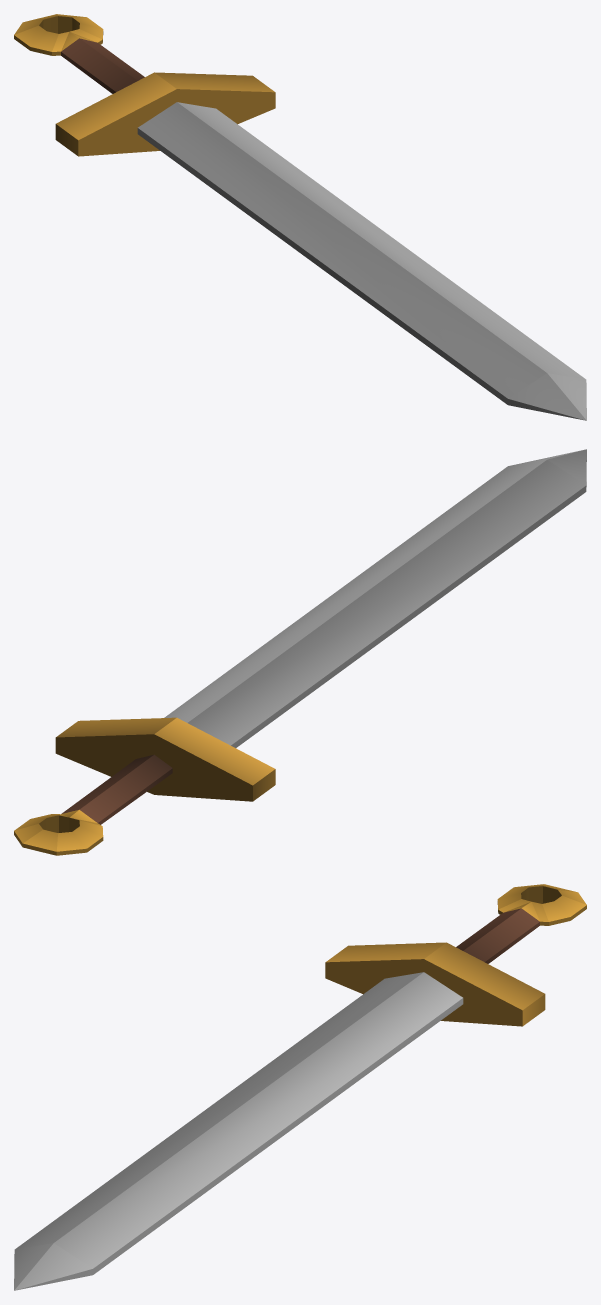
File: human-tools-sword_v1.glb
3 views of the same model, one above another, from view 1: azimuth 30°, elevation 25°; view 2: azimuth 150°, elevation 25°; view 3: azimuth 330°, elevation 25° (orthographic).
Parts seen in each view (by area): view 1: Sword.001; view 2: Sword.001; view 3: Sword.001.
Boxes of the visible parts, x1,y1,x2,y2 form: Sword.001: (14,14,586,420); Sword.001: (14,449,586,855); Sword.001: (14,884,586,1290).
Bounding box in the file's own units: 0.208 × 0.0612 × 1.
